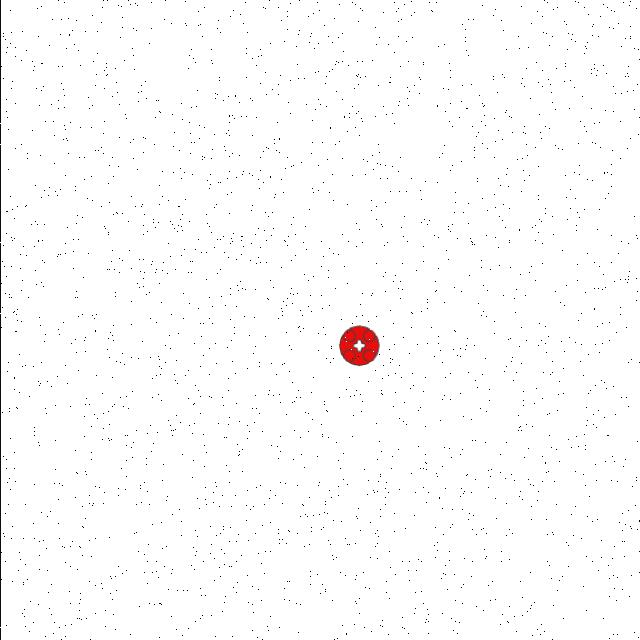4032a: (334, 322, 382, 370)
